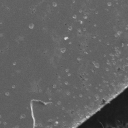corrosion: (92, 60, 101, 70), (114, 29, 123, 39), (28, 23, 35, 30), (71, 13, 78, 20), (51, 82, 58, 89), (60, 47, 66, 54), (52, 2, 59, 8), (106, 1, 113, 7), (75, 56, 82, 62), (4, 91, 10, 97), (54, 119, 60, 125), (62, 36, 69, 41), (11, 61, 17, 66), (67, 26, 73, 31), (64, 67, 70, 72), (64, 81, 69, 86), (83, 15, 88, 20), (92, 23, 97, 27)
